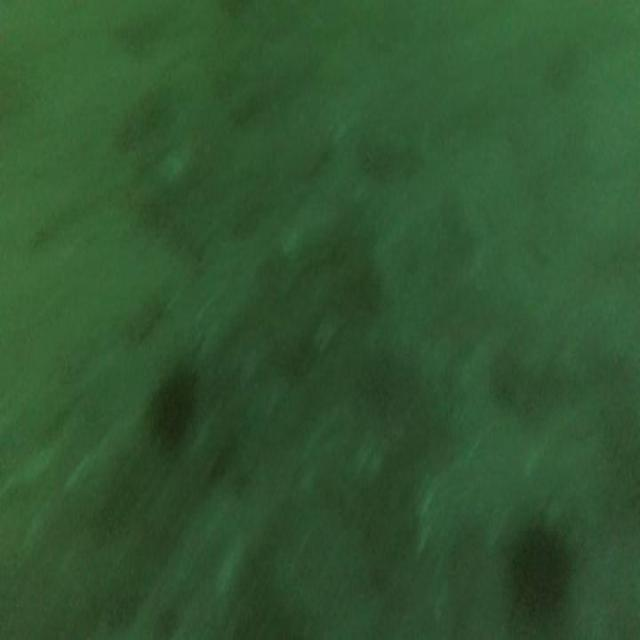echinus: (503, 510, 572, 634), (142, 348, 200, 460)
